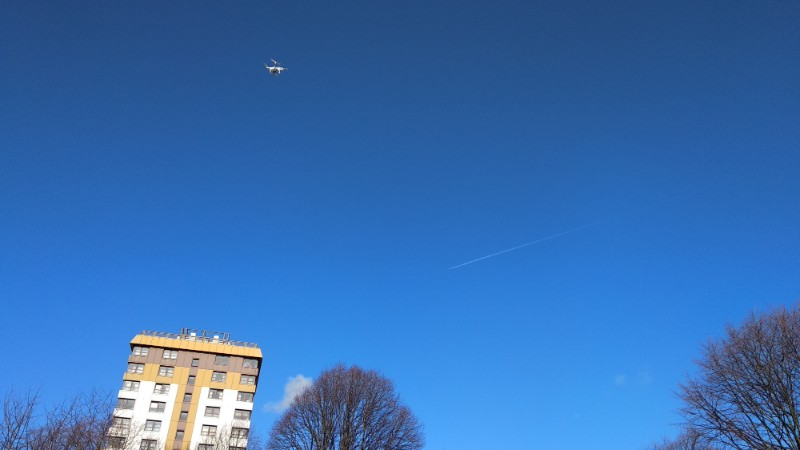drone: (262, 56, 288, 78)
